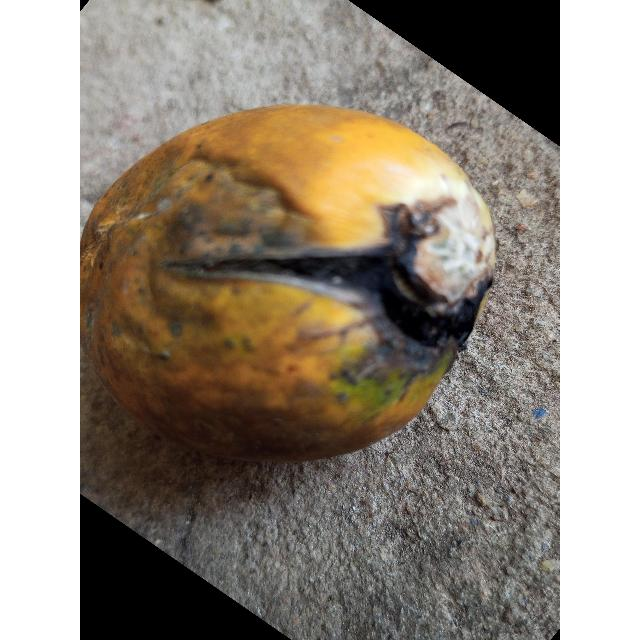damaged: (80, 104, 497, 465)
